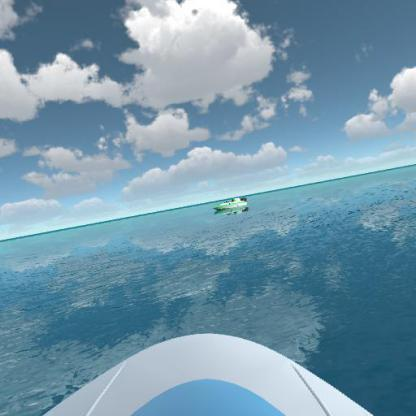usv0: (210, 193, 253, 219)
